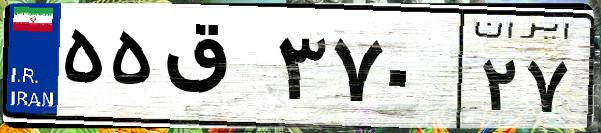0: (385, 28, 445, 110)
2: (475, 38, 525, 113)
3: (270, 28, 330, 110)
5: (57, 26, 110, 100), (110, 28, 158, 98)
7: (330, 28, 385, 110), (525, 38, 570, 115)
ق: (158, 20, 270, 120)
